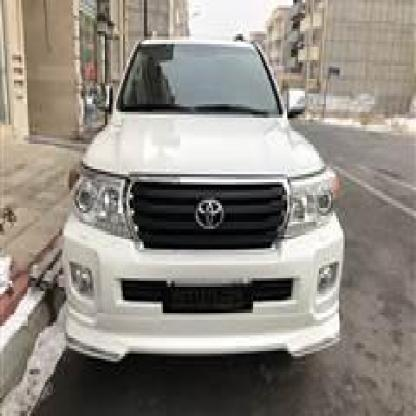Car: (57, 31, 345, 367)
